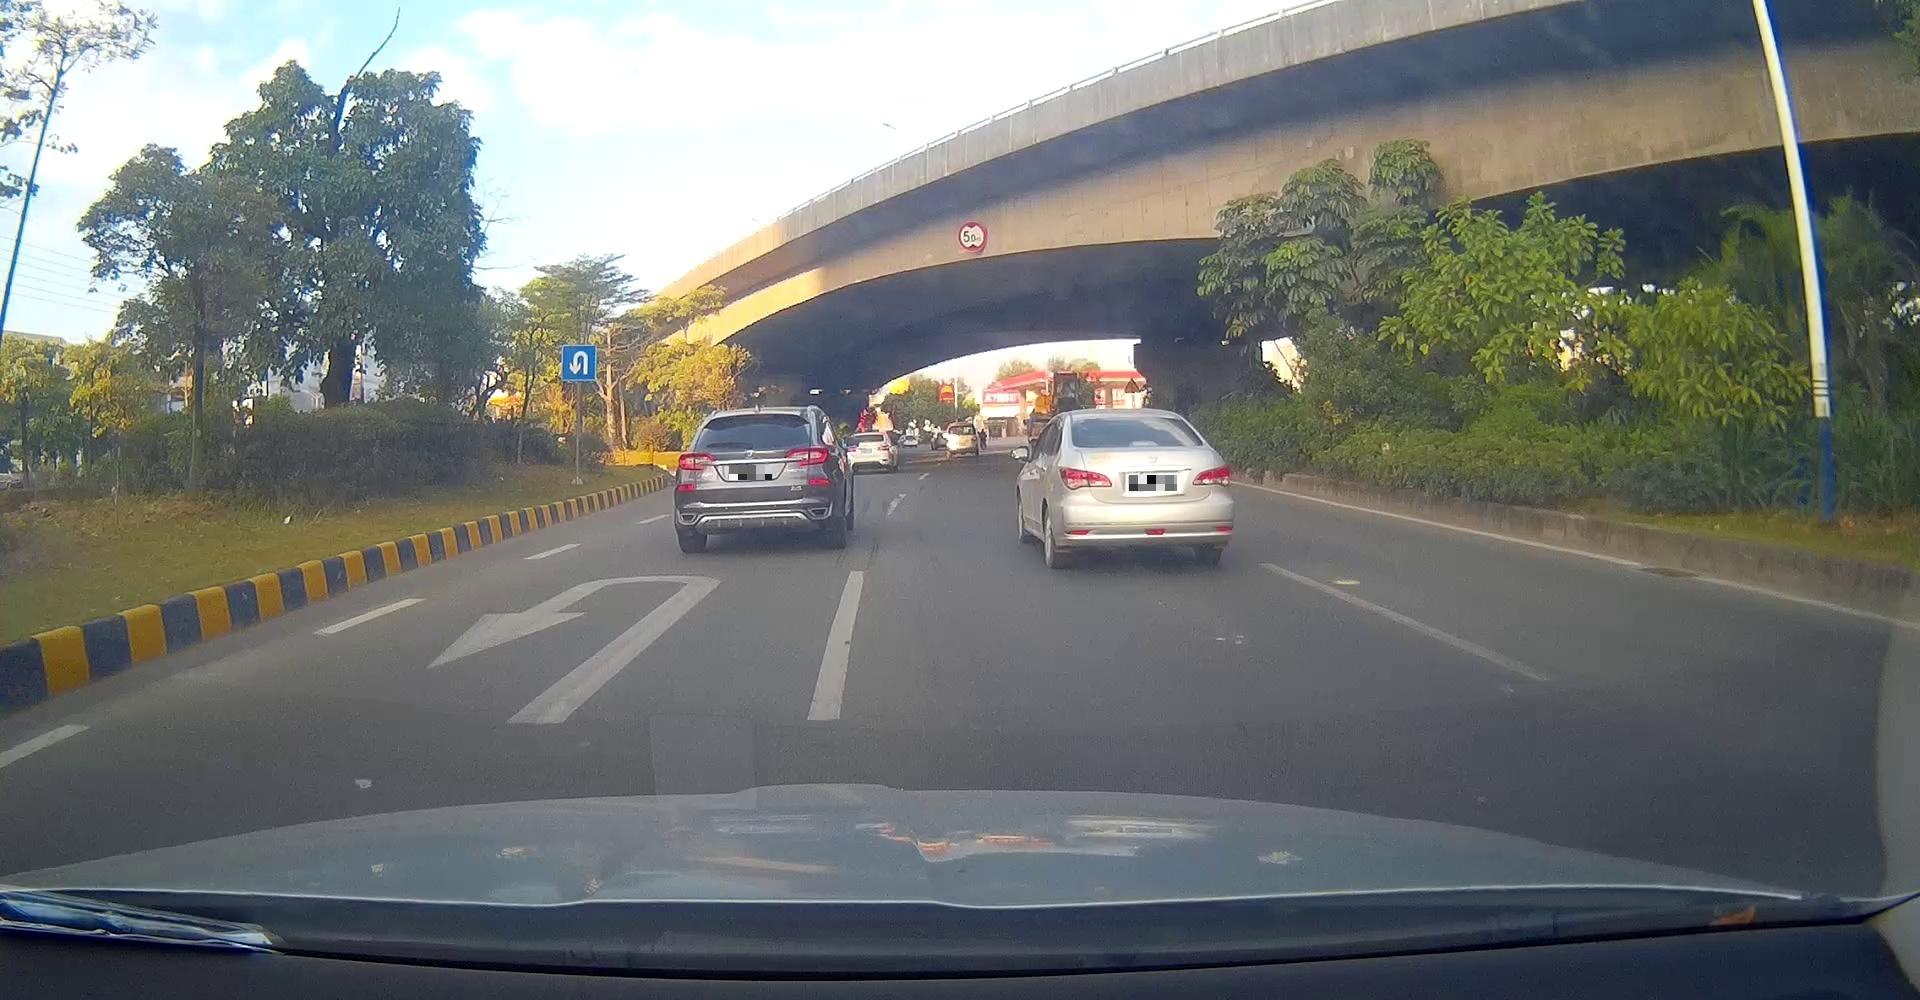L_light: (1058, 466, 1112, 490), (678, 452, 717, 471), (846, 445, 856, 452)
R_light: (1192, 464, 1232, 486), (786, 445, 829, 464), (877, 445, 889, 451)
T_light: (756, 414, 770, 419), (1128, 418, 1142, 423), (863, 435, 870, 437)
day-no: (1057, 409, 1234, 569), (673, 406, 844, 555), (844, 431, 890, 473)
plate_1: (729, 464, 772, 480)
plate_2: (1129, 475, 1177, 491)
